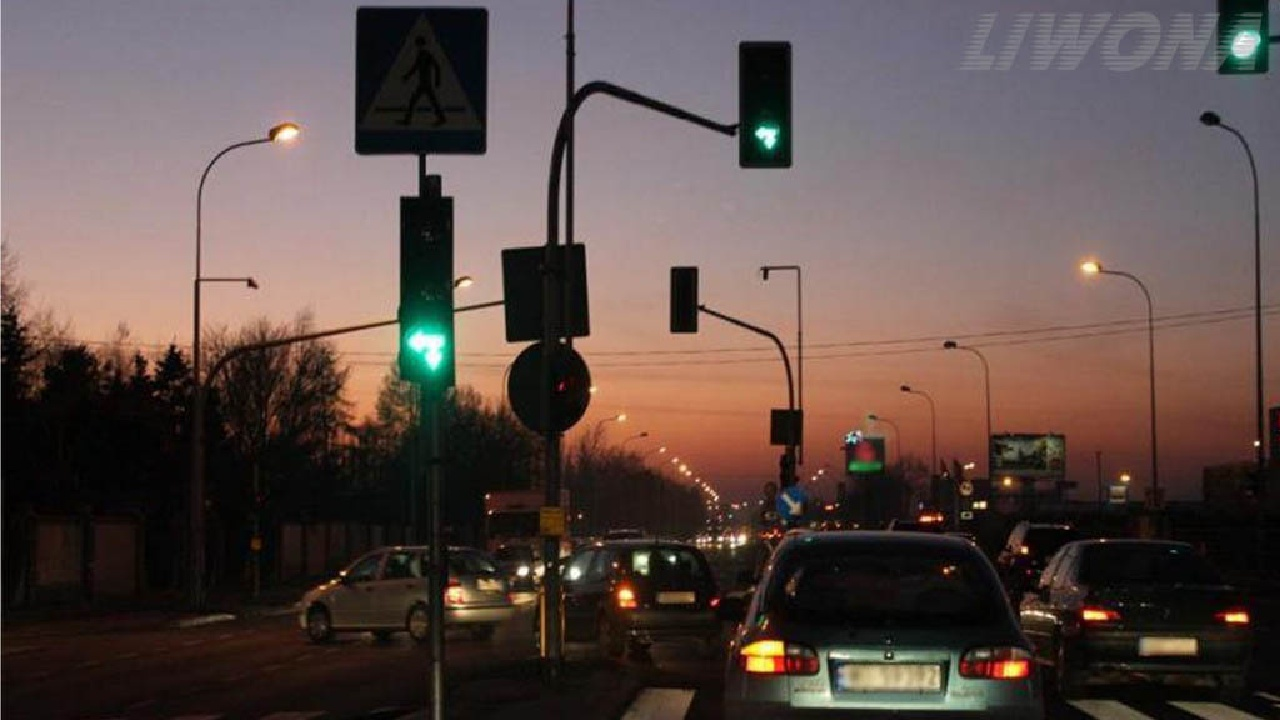Green: (400, 195, 452, 380), (744, 42, 786, 163), (1223, 1, 1265, 72)
